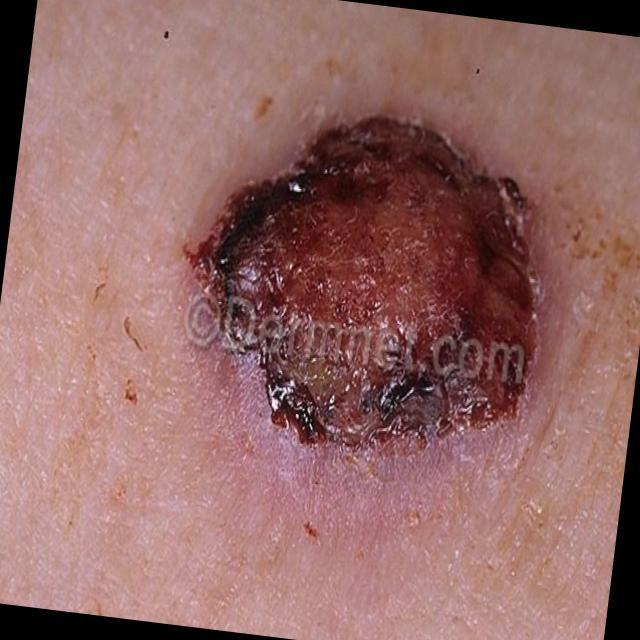Eczema: (125, 92, 568, 520)
